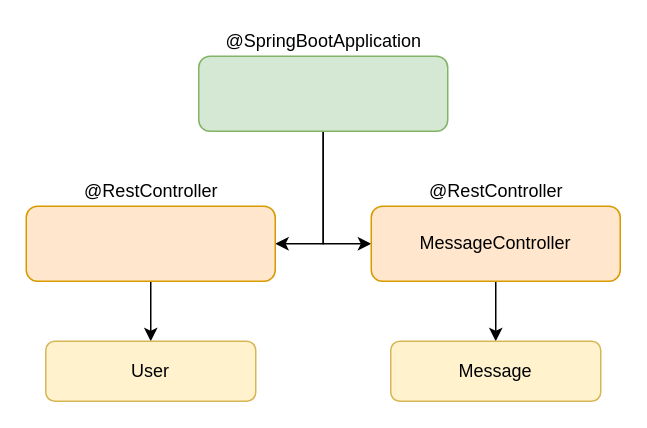
Image size: 647x428. Some labels were removed from this diagram. Here are the shapes that lost their labels. From the top down, the centre of each, then its label:
At point 322,93: "TrickOrJingleApplication".
At point 150,243: "UserController".
